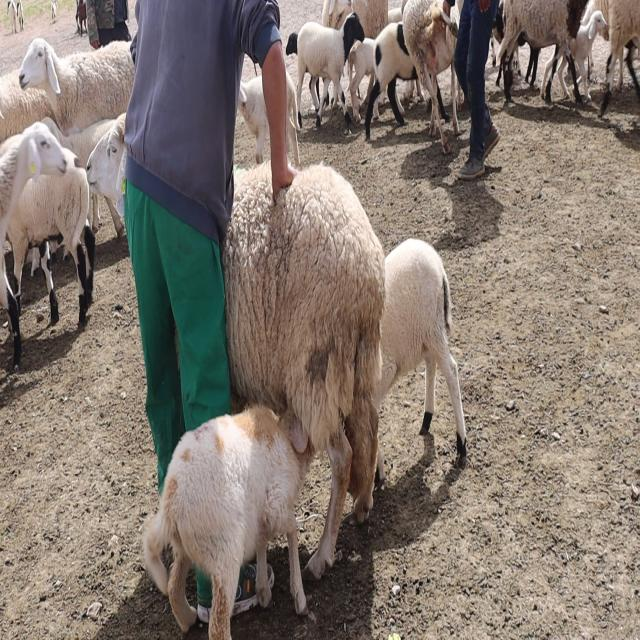Score_5: (223, 162, 385, 578)
